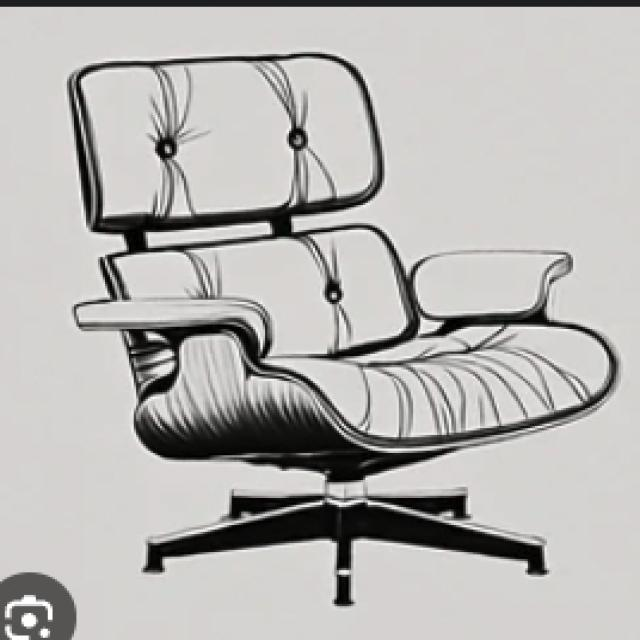Backrest: (95, 222, 419, 360)
Eames_base: (135, 476, 587, 622)
Eames_lounge: (70, 295, 276, 365), (408, 248, 576, 322)
Headrest: (63, 48, 388, 239)
Seat: (128, 321, 620, 473)
